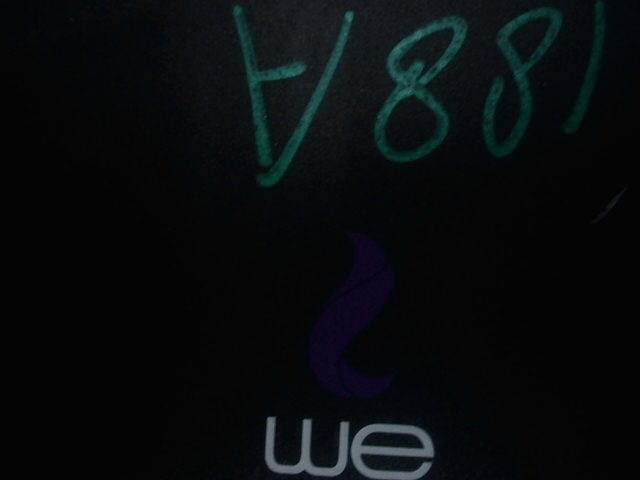AT_We: (250, 222, 478, 478)
